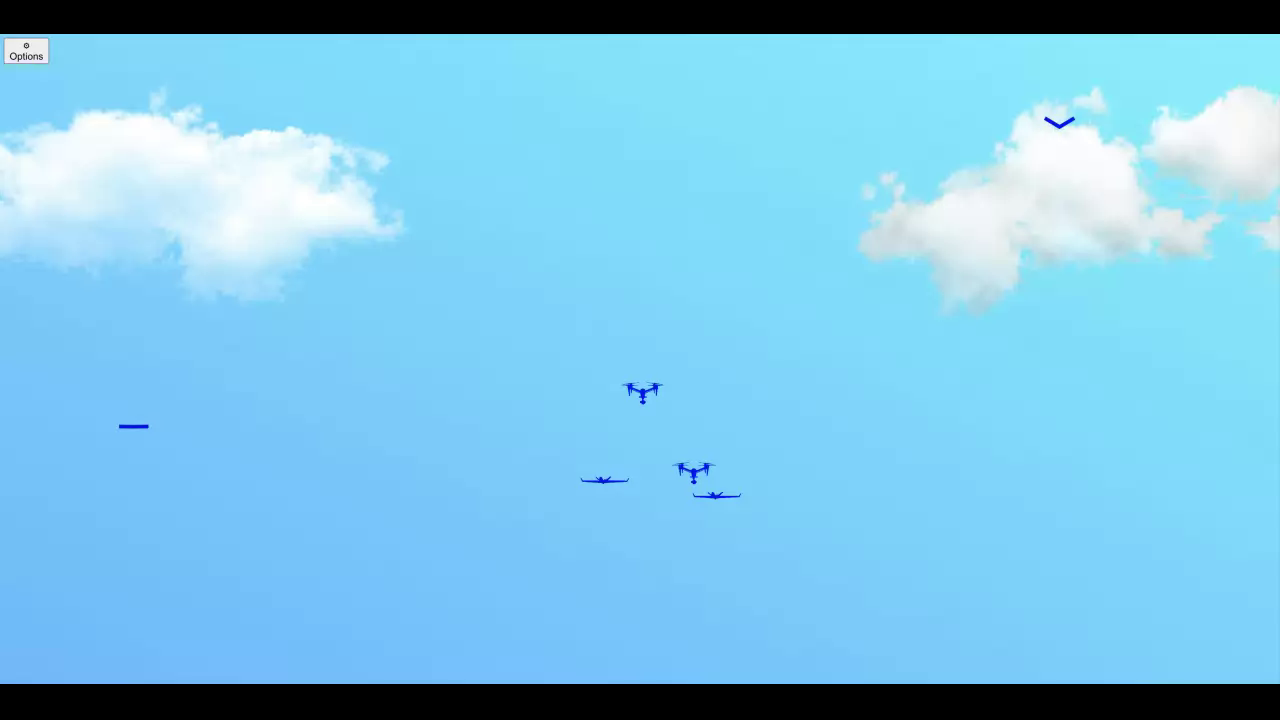Bird: (567, 459, 639, 496), (102, 405, 164, 444), (1029, 103, 1095, 139)
Drone: (675, 482, 761, 512)
Quadcopter: (606, 371, 679, 413), (668, 449, 735, 484)
